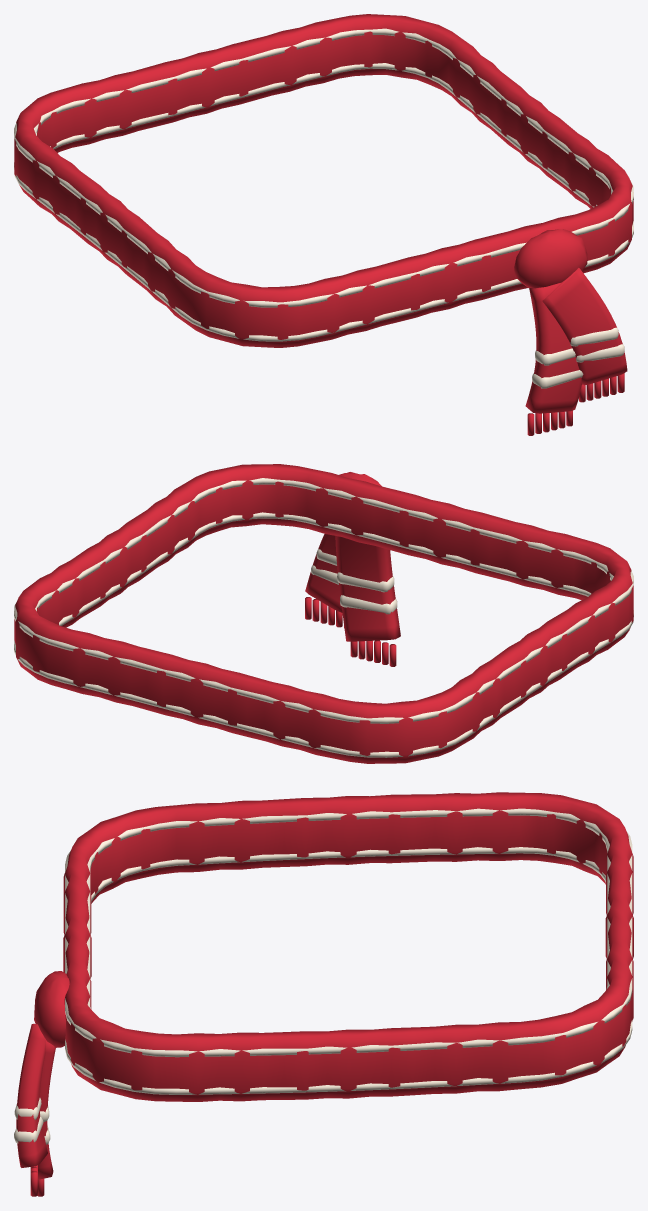
The model's file is scarf.glb.
3 renders of one model, top to bottom at view 1: azimuth 30°, elevation 25°; view 2: azimuth 150°, elevation 25°; view 3: azimuth 270°, elevation 25°, orthographic. The views are drawn at different scales.
Visible parts, largest first — view 1: wrap, pinstripe, pinstripe.001, end1, end0, knot; view 2: wrap, pinstripe, pinstripe.001, end0, end1, stripe.001, stripe; view 3: wrap, pinstripe, pinstripe.001, end1, knot, end0.
Part boxes in pixels (bbox=[...]): wrap: bbox=[14, 14, 633, 347]; pinstripe: bbox=[14, 28, 633, 307]; pinstripe.001: bbox=[14, 63, 633, 341]; end1: bbox=[542, 268, 627, 385]; end0: bbox=[525, 283, 581, 413]; knot: bbox=[514, 229, 587, 288]; wrap: bbox=[14, 464, 633, 763]; pinstripe: bbox=[14, 478, 633, 723]; pinstripe.001: bbox=[14, 512, 633, 757]; end0: bbox=[335, 536, 400, 641]; end1: bbox=[305, 534, 342, 612]; stripe.001: bbox=[340, 595, 397, 614]; stripe: bbox=[337, 572, 394, 592]; wrap: bbox=[63, 792, 633, 1101]; pinstripe: bbox=[65, 808, 632, 1057]; pinstripe.001: bbox=[65, 847, 632, 1094]; end1: bbox=[16, 1023, 47, 1167]; knot: bbox=[34, 971, 69, 1047]; end0: bbox=[38, 1040, 55, 1179].
Size of the model in its own units: 1.37 by 0.6133 by 1.48.
